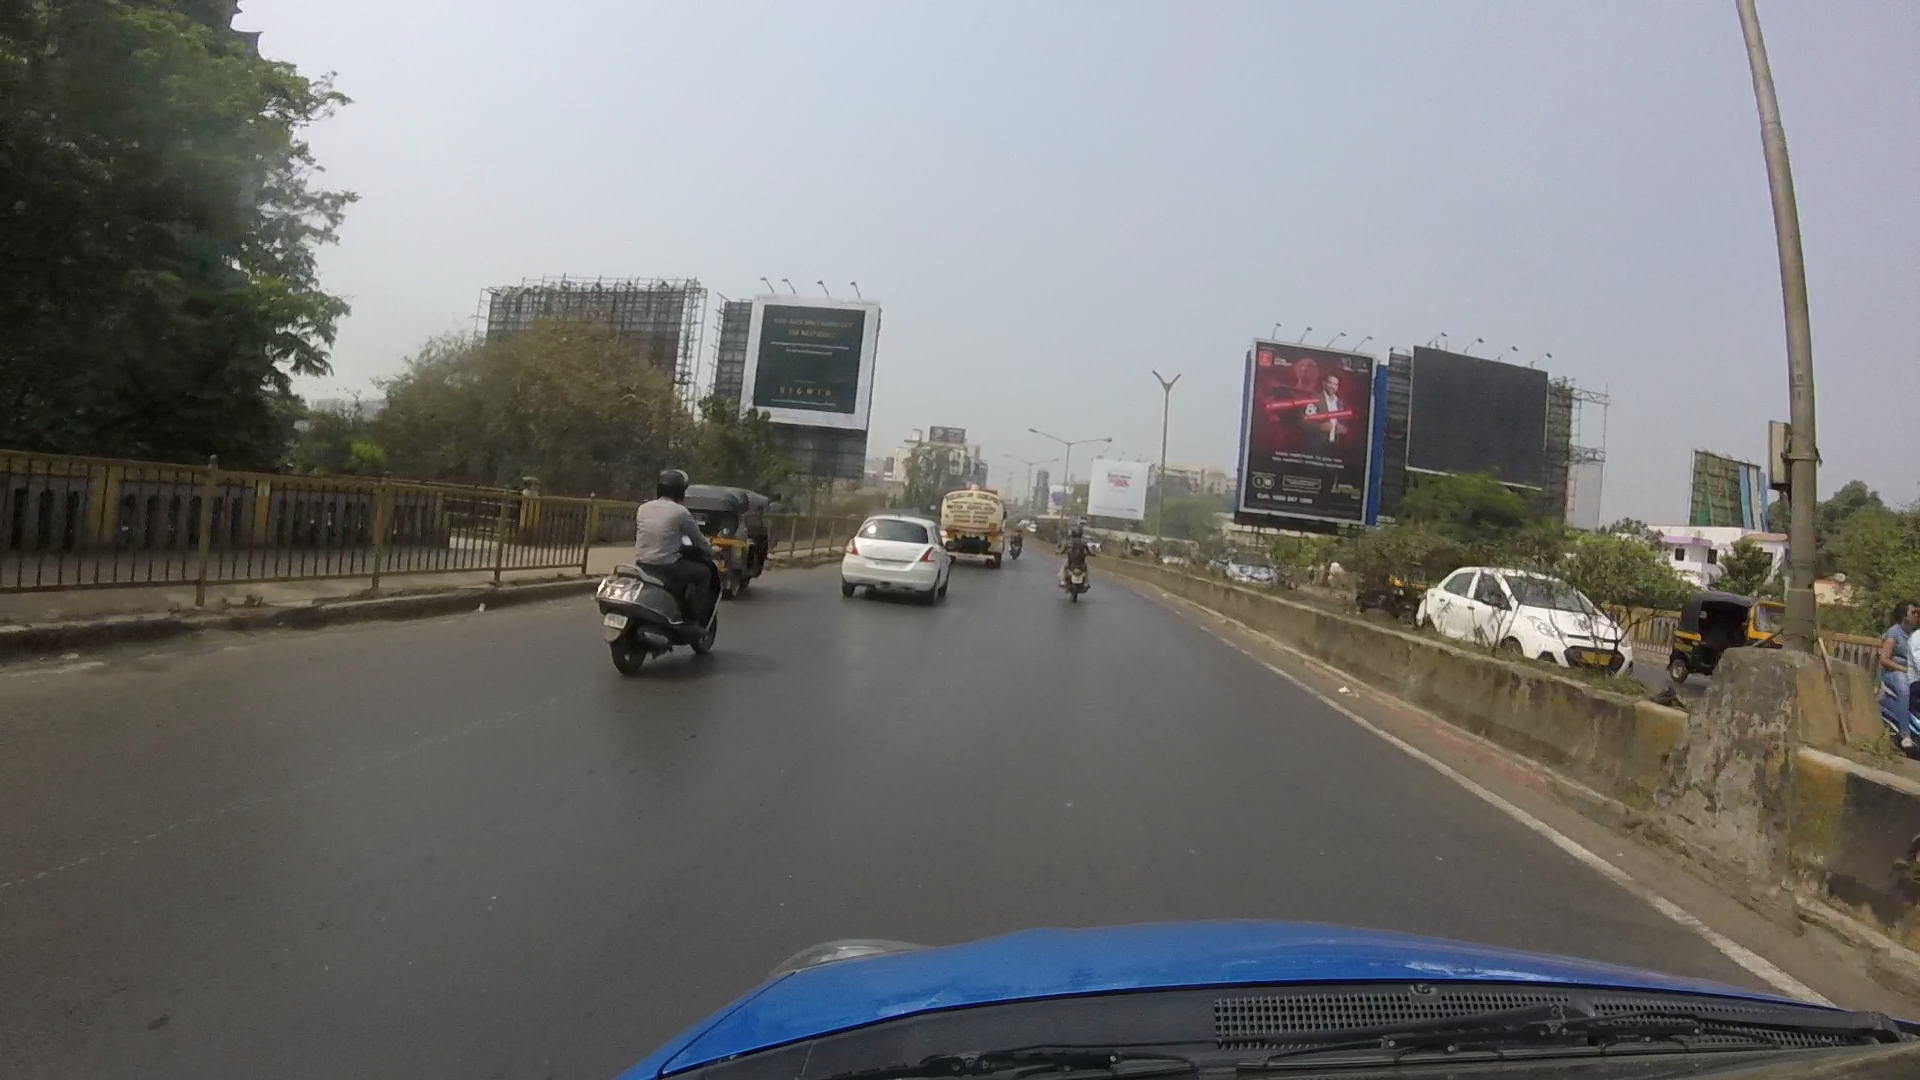bike/scooter: (564, 458, 757, 684), (1044, 514, 1105, 597)
car: (1414, 553, 1646, 686), (837, 489, 945, 611)
rickshaw: (1665, 576, 1793, 695), (691, 484, 777, 588)
truck: (928, 469, 1007, 560)
